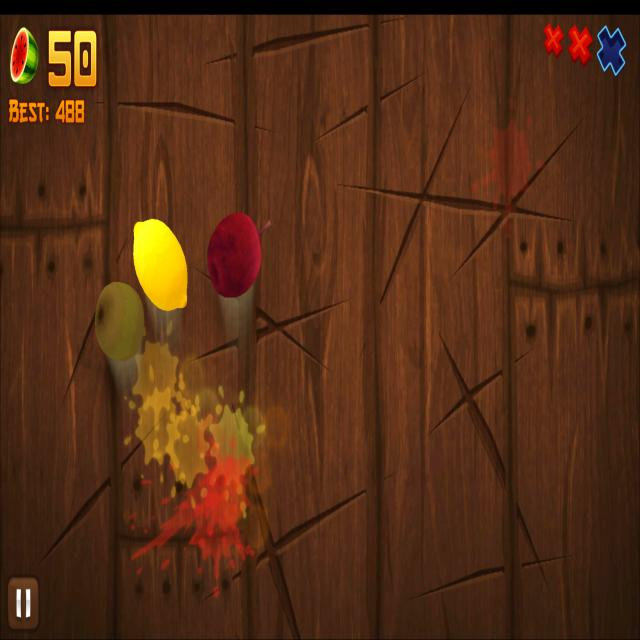fruit: (133, 220, 189, 311), (208, 212, 262, 298), (94, 282, 144, 359)
